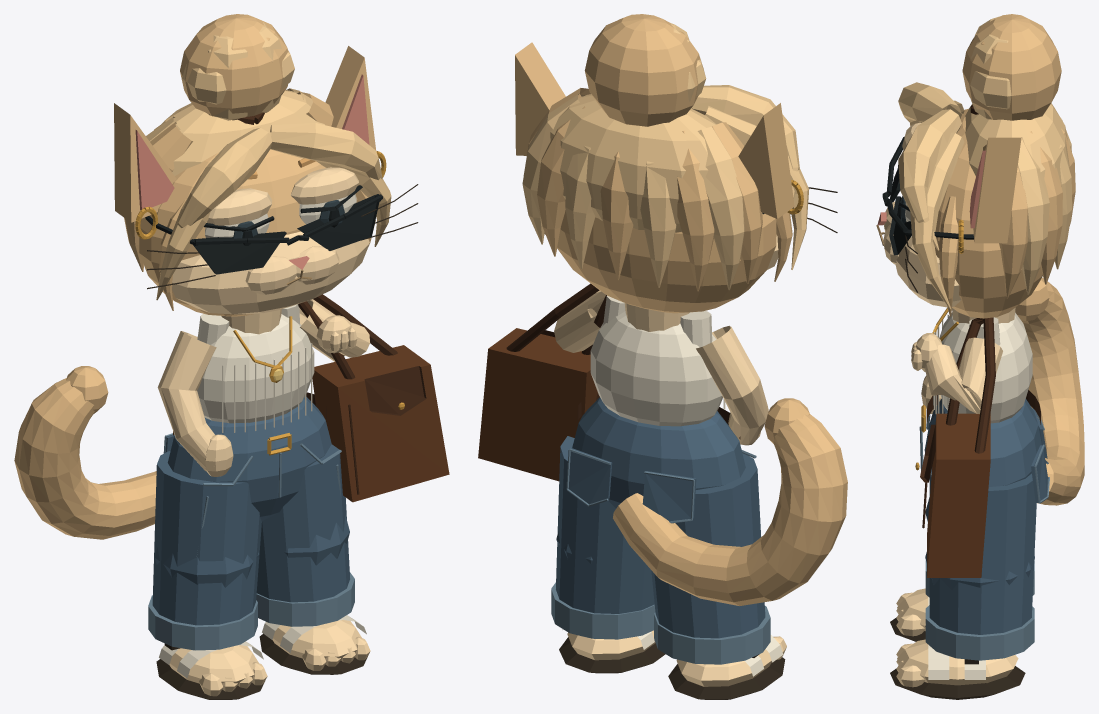
File: Patrimiau.glb
3 views of the same model, side by side, from view 1: azimuth 30°, elevation 25°; view 2: azimuth 150°, elevation 25°; view 3: azimuth 270°, elevation 25° (orthographic). The views are drawn at different scales.
Visible parts, largest first — view 1: Patrimiau; view 2: Patrimiau; view 3: Patrimiau.
Boxes of the visible parts, x1,y1,x2,y2 form: Patrimiau: (14, 14, 449, 699); Patrimiau: (478, 14, 847, 699); Patrimiau: (876, 14, 1084, 699).
Size of the model in its own units: 1.85 by 3 by 0.8817.
1 material, 1 textured.
